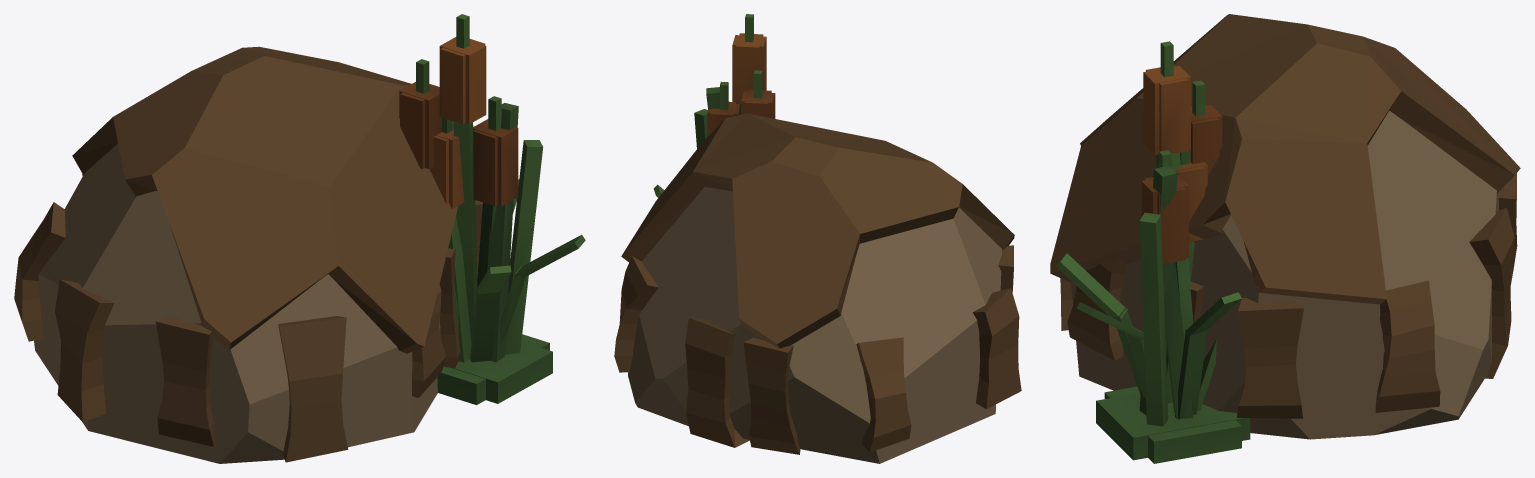
The model's file is MuddyRock.fbx.
3 renders of one model, left to right at view 1: azimuth 30°, elevation 25°; view 2: azimuth 150°, elevation 25°; view 3: azimuth 270°, elevation 25°, orthographic. The views are drawn at different scales.
Visible parts, largest first — view 1: MuddyRock_Mud, MuddyRock, MuddyRock_Cattails, MuddyRock_Drips; view 2: MuddyRock, MuddyRock_Mud, MuddyRock_Drips, MuddyRock_Cattails; view 3: MuddyRock_Mud, MuddyRock, MuddyRock_Cattails, MuddyRock_Drips.
Part boxes in pixels (x1,y1,x2,y2): MuddyRock_Mud: (72, 46, 458, 353); MuddyRock: (34, 143, 440, 463); MuddyRock_Cattails: (399, 14, 585, 405); MuddyRock_Drips: (14, 174, 482, 462); MuddyRock: (628, 187, 1001, 463); MuddyRock_Mud: (621, 113, 1014, 348); MuddyRock_Drips: (614, 245, 1021, 454); MuddyRock_Cattails: (653, 14, 775, 197); MuddyRock_Mud: (1050, 14, 1520, 304); MuddyRock: (1071, 111, 1500, 439); MuddyRock_Cattails: (1056, 41, 1250, 463); MuddyRock_Drips: (1060, 173, 1517, 418).
Bounding box in the file's own units: 10.83 × 8.55 × 9.62.
